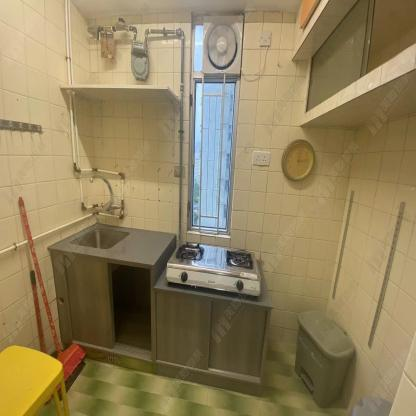Cupboard: (154, 289, 271, 378)
Exhaust Fan: (202, 15, 244, 77)
Faucet: (87, 172, 119, 220)
Sink: (65, 226, 131, 248)
Stove: (164, 240, 261, 297)
